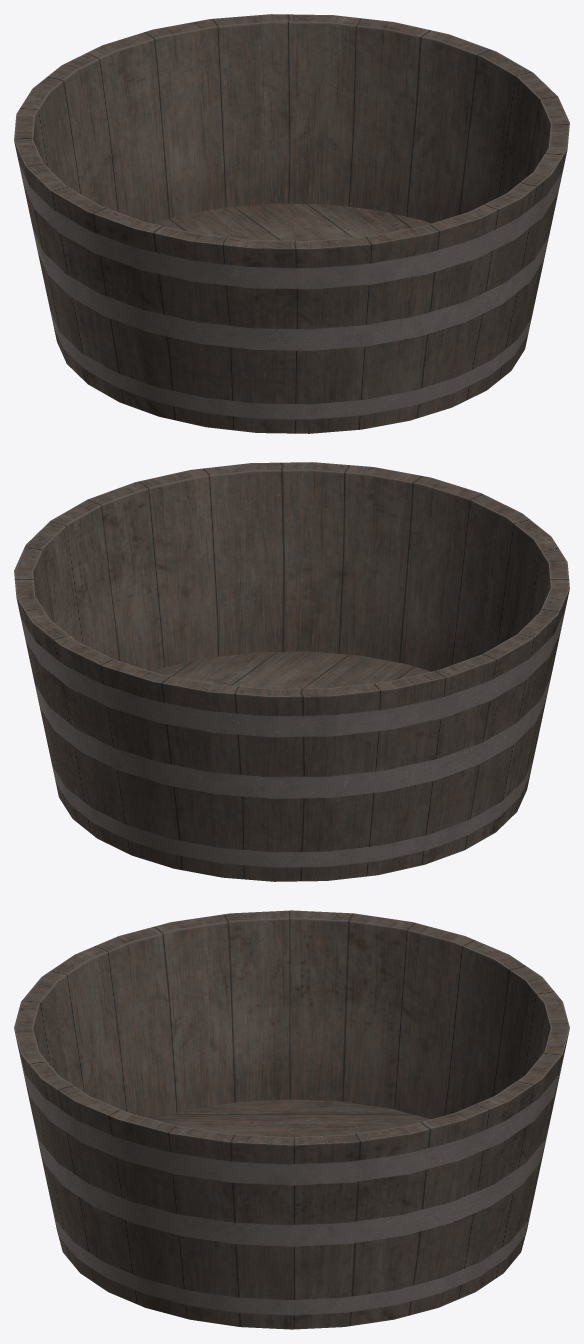
File: bucket_large.fbx
3 renders of one model, top to bottom at view 1: azimuth 30°, elevation 25°; view 2: azimuth 150°, elevation 25°; view 3: azimuth 270°, elevation 25°, orthographic.
Visible parts, largest first — view 1: bucket_large; view 2: bucket_large; view 3: bucket_large.
Boxes of the visible parts, x1,y1,x2,y2 form: bucket_large: [14, 14, 569, 433]; bucket_large: [14, 462, 569, 881]; bucket_large: [14, 910, 569, 1329].
Bounding box in the file's own units: 156 × 62.73 × 156.
